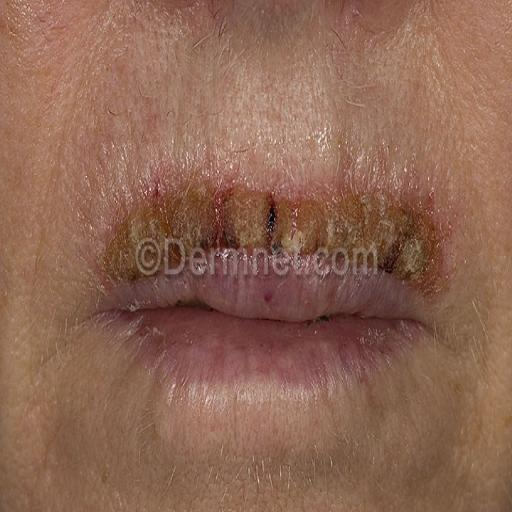Skin_Lesion: (301, 199, 444, 283), (179, 181, 249, 253), (130, 167, 174, 238), (260, 180, 294, 262), (89, 218, 126, 286), (316, 0, 370, 37)
